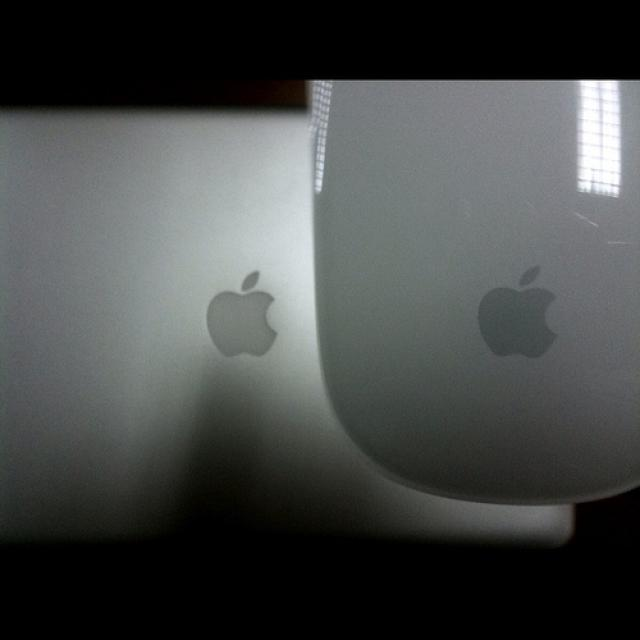apple: (466, 256, 576, 376), (203, 266, 284, 362)
